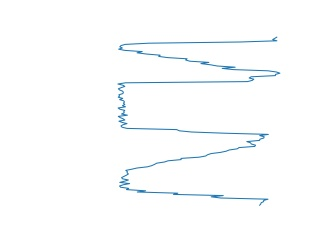distributaryChannelFill: (114, 72, 273, 142)
mouthBar: (115, 33, 284, 77)
underwaterDistributaryChannel: (115, 137, 271, 208)
